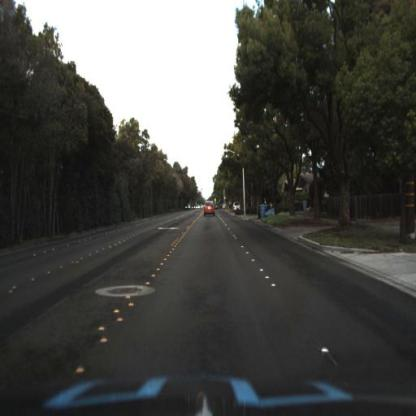car: (202, 197, 218, 220)
